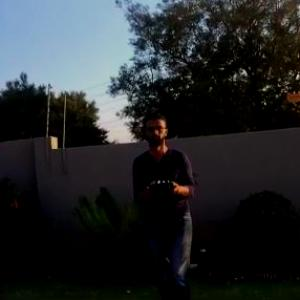follow: (128, 106, 200, 299)
